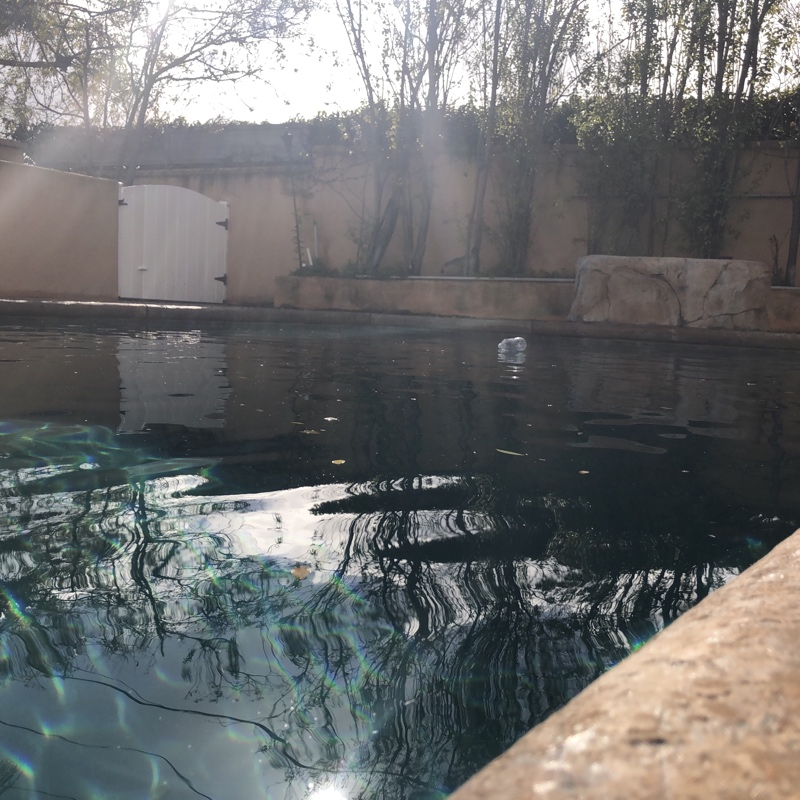Plastic Bottle: (497, 335, 528, 353)
